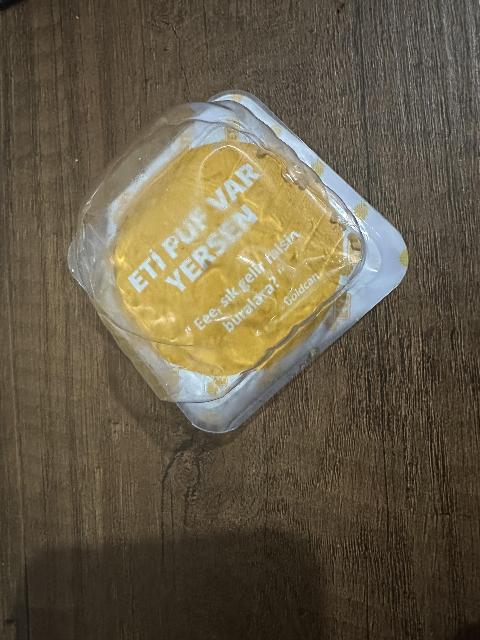Plastik: (71, 97, 417, 438)
